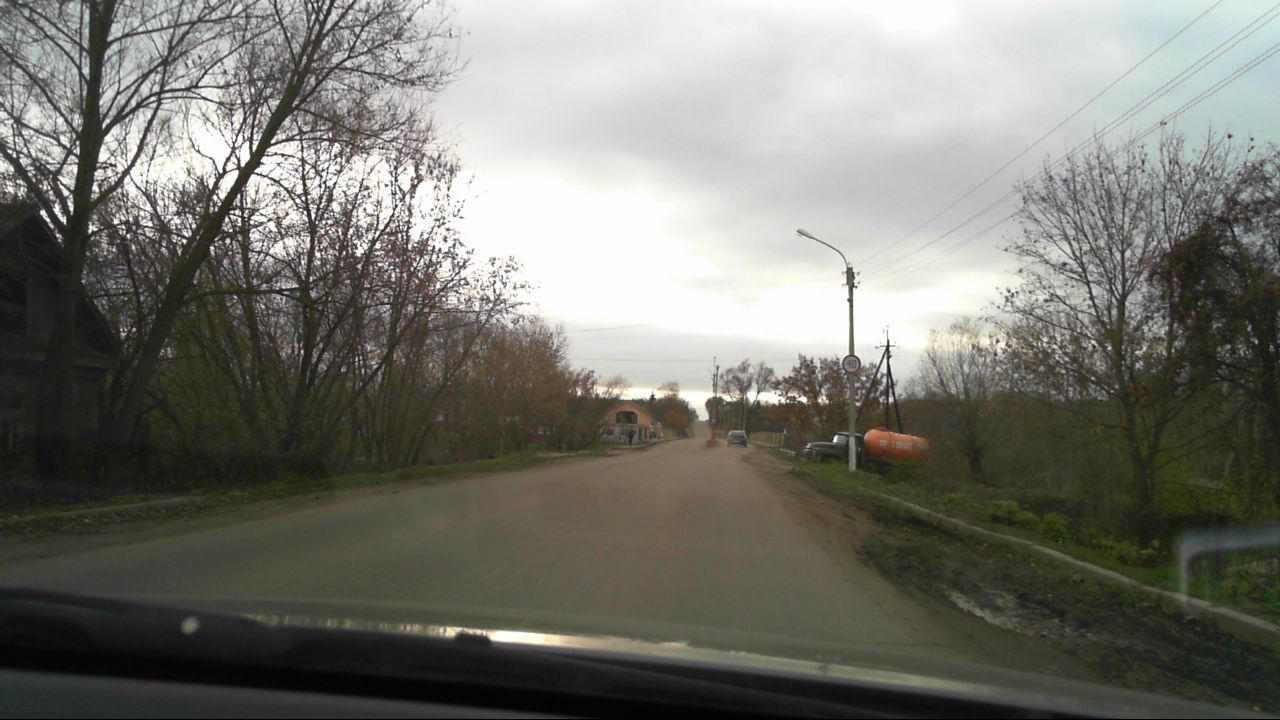speed_warning_40: (840, 352, 864, 374)
